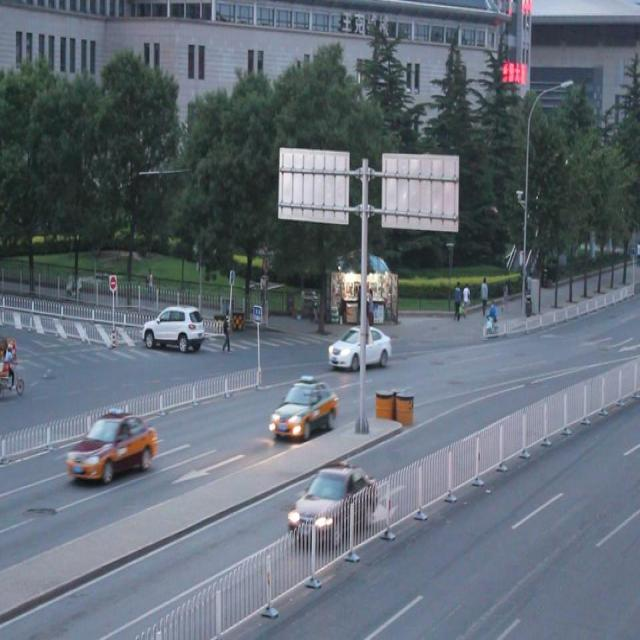car: (66, 407, 158, 481), (291, 465, 378, 540), (269, 377, 337, 441), (328, 324, 390, 372), (141, 304, 202, 350)
